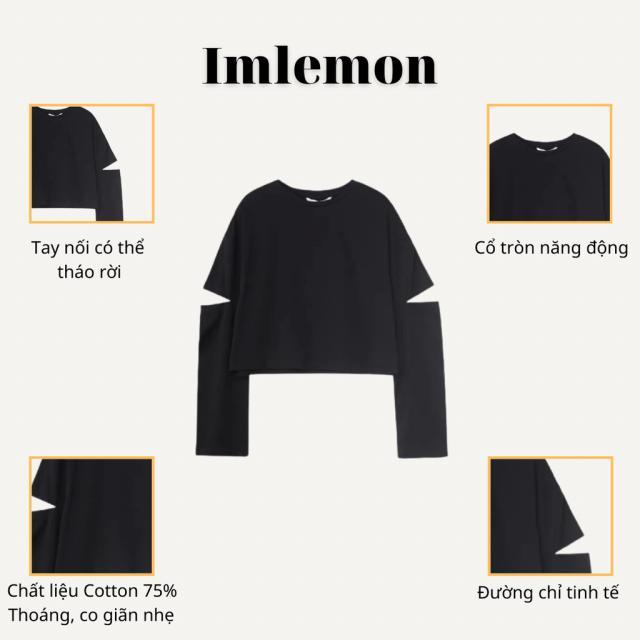shirt: (197, 182, 449, 480)
